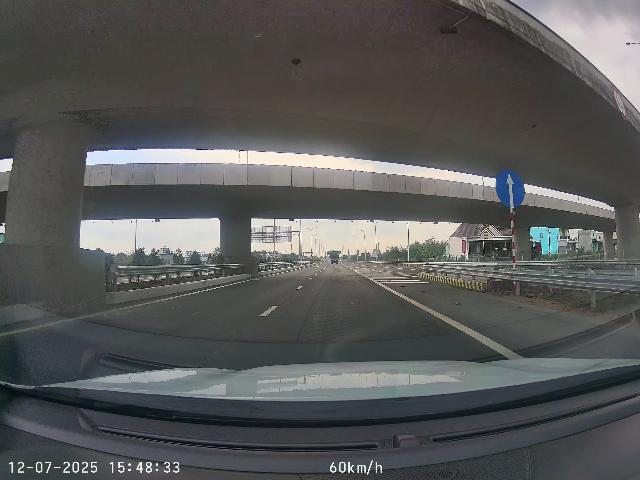301a-cac-xe-chi-duoc-di-thang: (495, 169, 525, 208)
